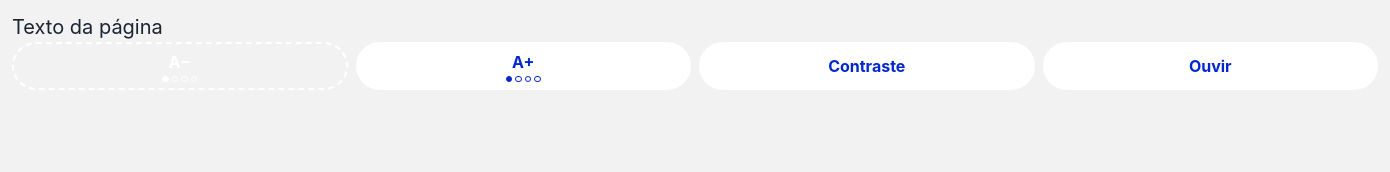
Test: Barra de ajustes de leitura › "Ouvir" mostra que está ativo e vira "Parar"
The width and height of the screenshot is (1390, 172).
Click the button with aria-label "Ouvir esta página em voz alta": (1210, 66) [1042,42,1378,90]
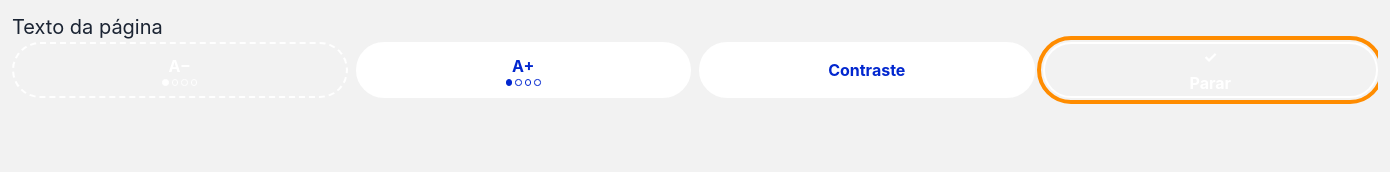
Now the button with aria-label "Parar a leitura em voz alta" reads "Parar", box [1042,42,1378,98]
